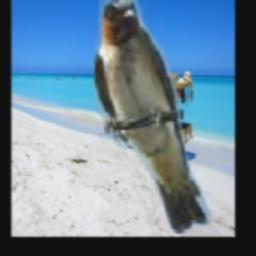Swallow: (93, 0, 213, 234)
